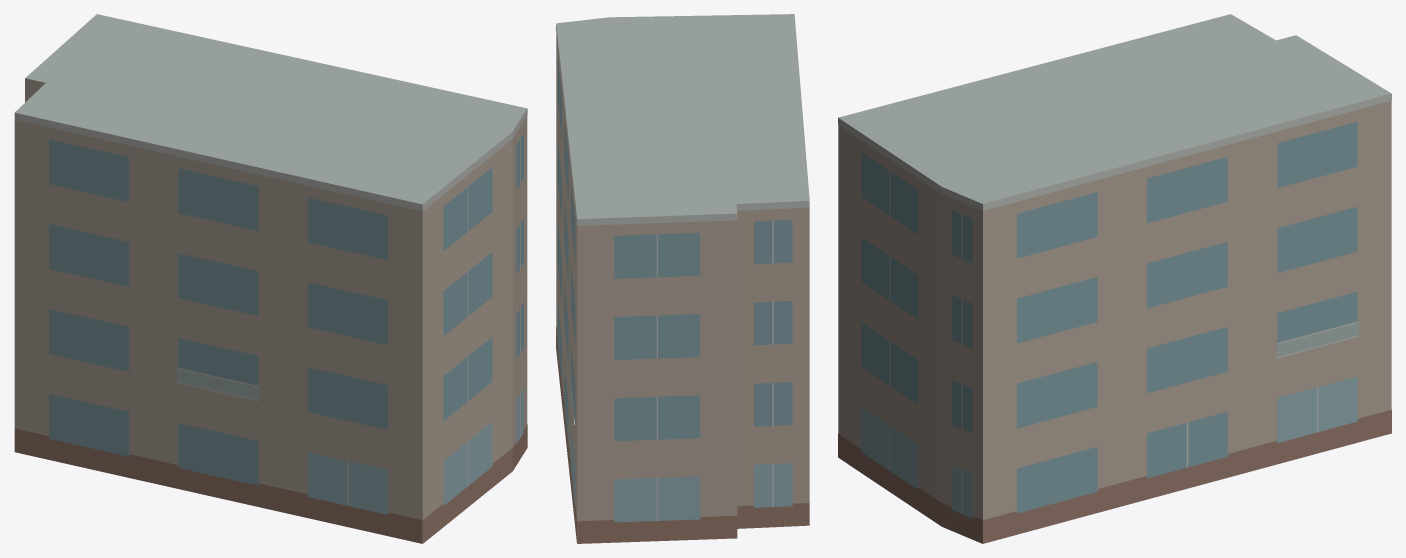
File: survey-upis-32790868.glb
3 views of the same model, side by side, from view 1: azimuth 30°, elevation 25°; view 2: azimuth 150°, elevation 25°; view 3: azimuth 270°, elevation 25° (orthographic). The views are drawn at different scales.
Visible parts, largest first — view 1: survey-upis-32790868.tmp; view 2: survey-upis-32790868.tmp; view 3: survey-upis-32790868.tmp.
Boxes of the visible parts, x1,y1,x2,y2 form: survey-upis-32790868.tmp: [14, 14, 527, 543]; survey-upis-32790868.tmp: [556, 14, 809, 543]; survey-upis-32790868.tmp: [838, 14, 1391, 543].
Size of the model in its own units: 14.04 by 11.7 by 17.28.
